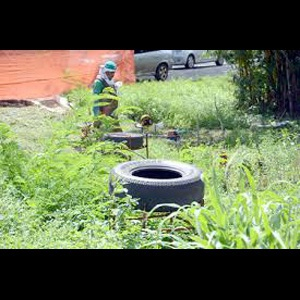tire: (111, 158, 205, 213), (98, 132, 144, 151), (154, 63, 168, 81), (215, 52, 225, 66), (185, 55, 194, 69)
